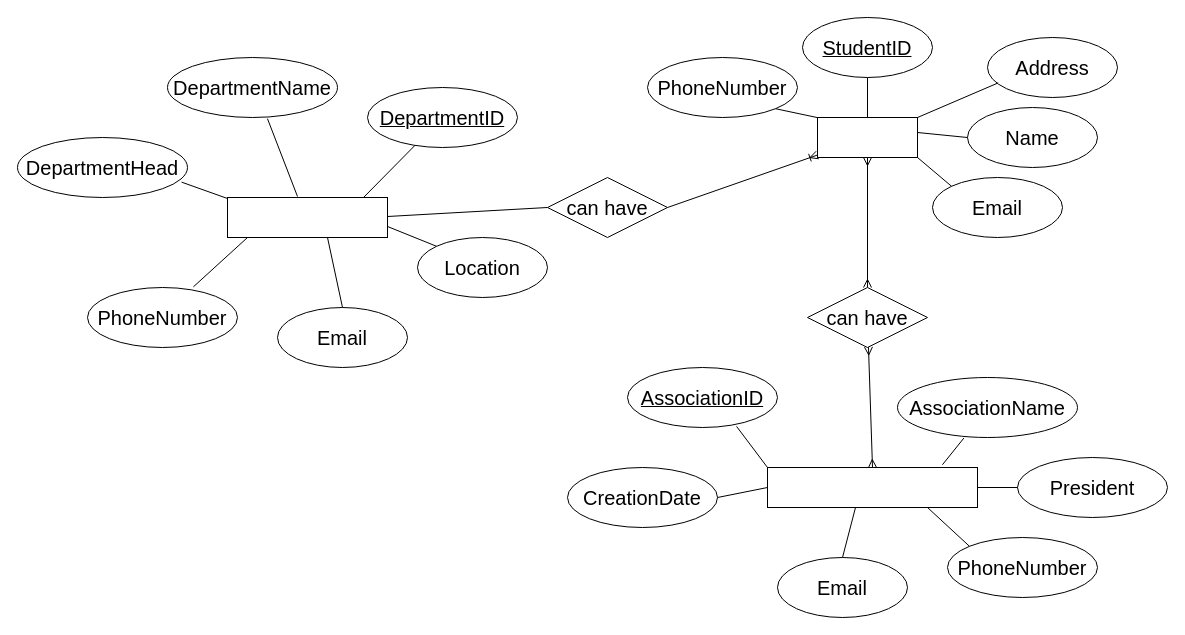
This 1185x635 diagram has some shape labels left out. The centre of each missing label's shape, as x and y in pixels:
"Department" goes at (307,217).
"Student" goes at (867,137).
"Student Association" goes at (872,487).
